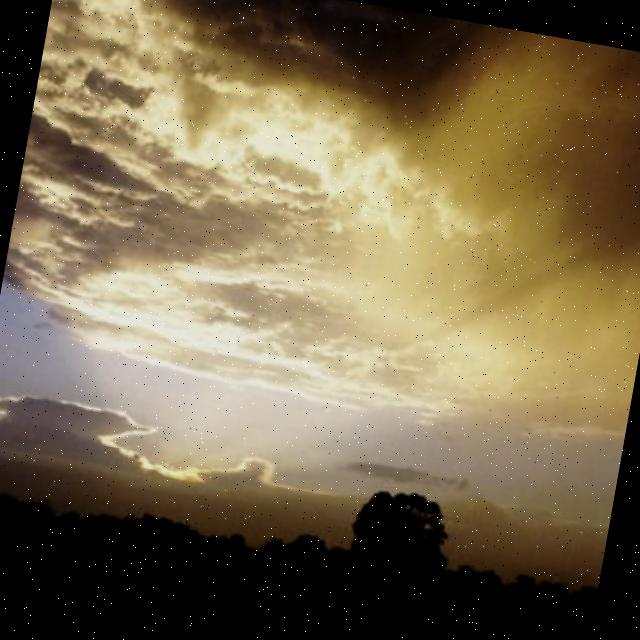Cb: (1, 1, 640, 401)
